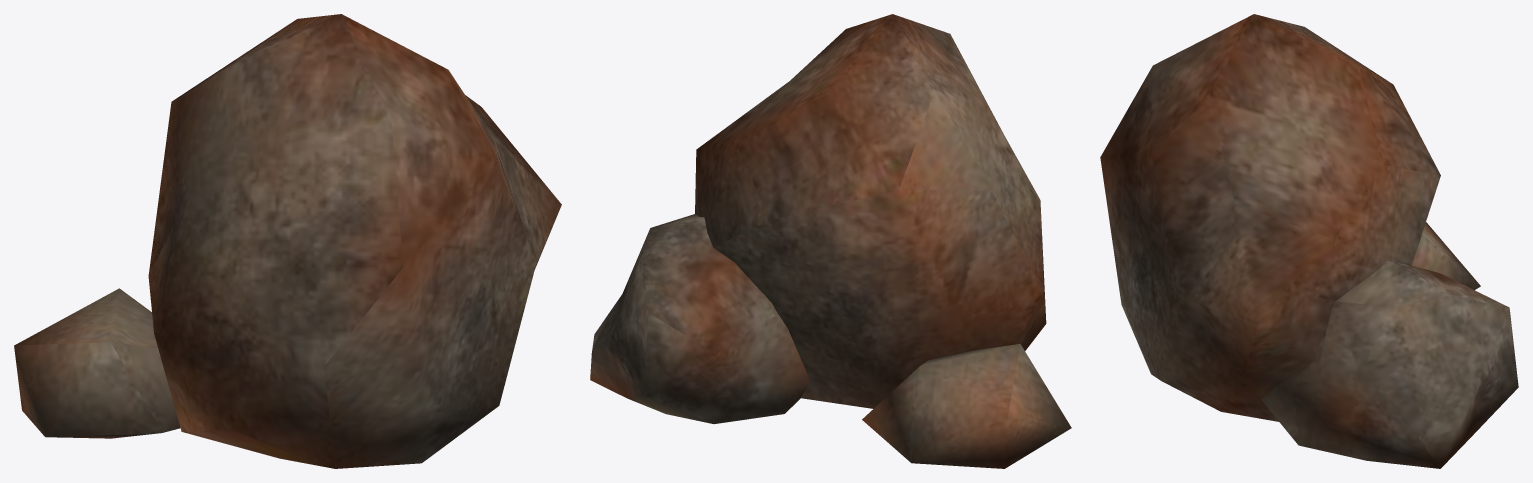
Rendered from b_n_iron_far.glb.
3 views of the same model, side by side, from view 1: azimuth 30°, elevation 25°; view 2: azimuth 150°, elevation 25°; view 3: azimuth 270°, elevation 25° (orthographic). The views are drawn at different scales.
Visible parts, largest first — view 1: b_n_iron_far; view 2: b_n_iron_far; view 3: b_n_iron_far.
Part boxes in pixels (<box>): b_n_iron_far: <box>14,14,561,468</box>; b_n_iron_far: <box>590,14,1071,468</box>; b_n_iron_far: <box>1100,14,1518,468</box>.
Size of the model in its own units: 1.52 by 1.18 by 1.27.
Materials: 1 (1 with a texture image).
